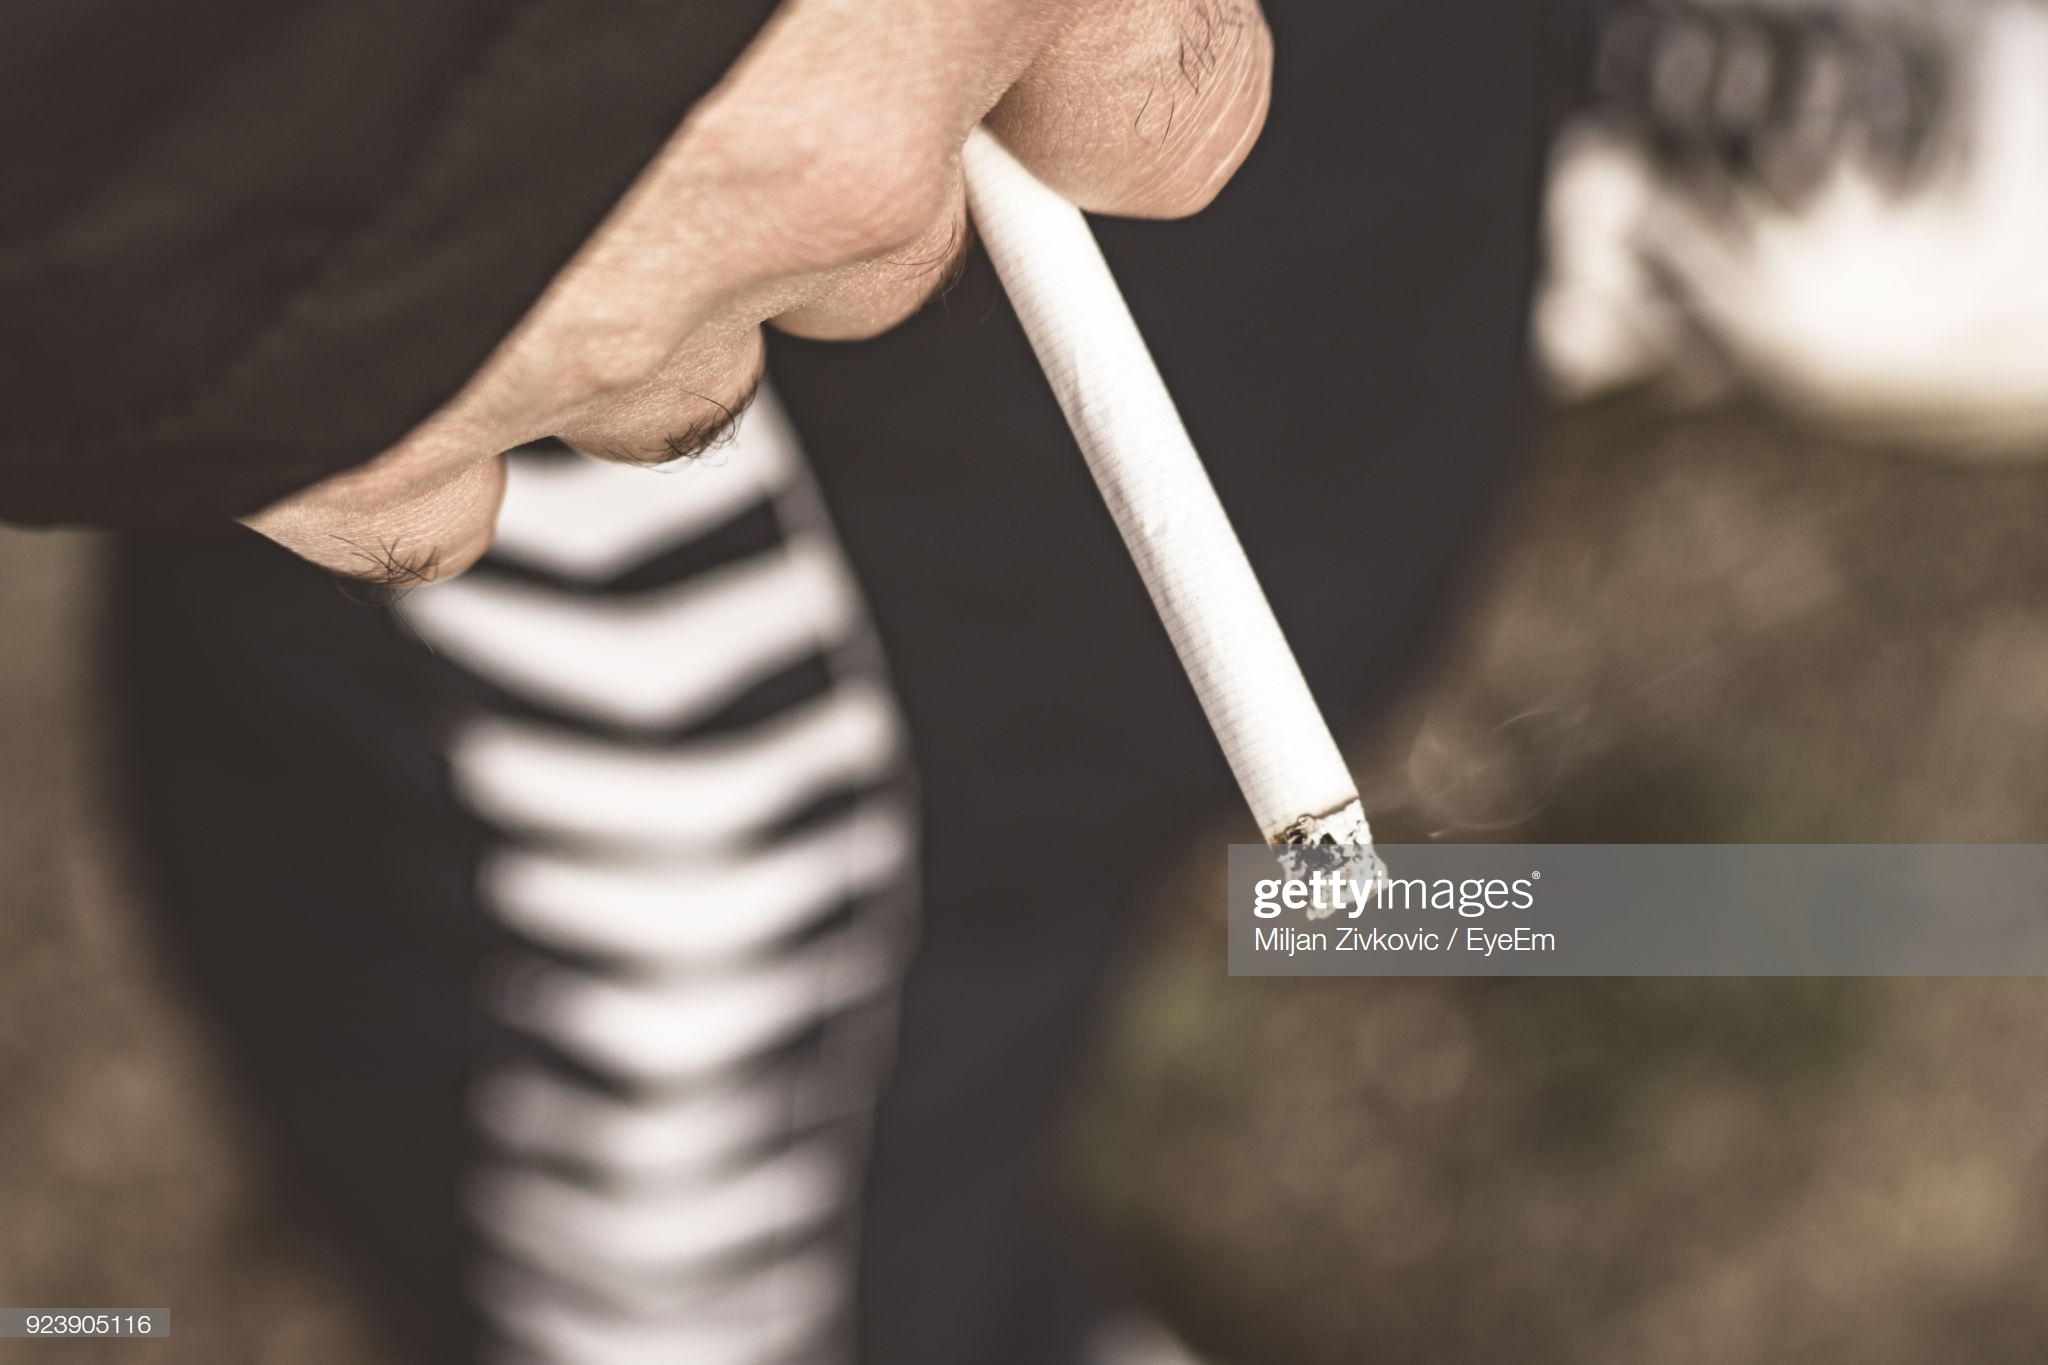sigaretta: (947, 94, 1405, 920)
